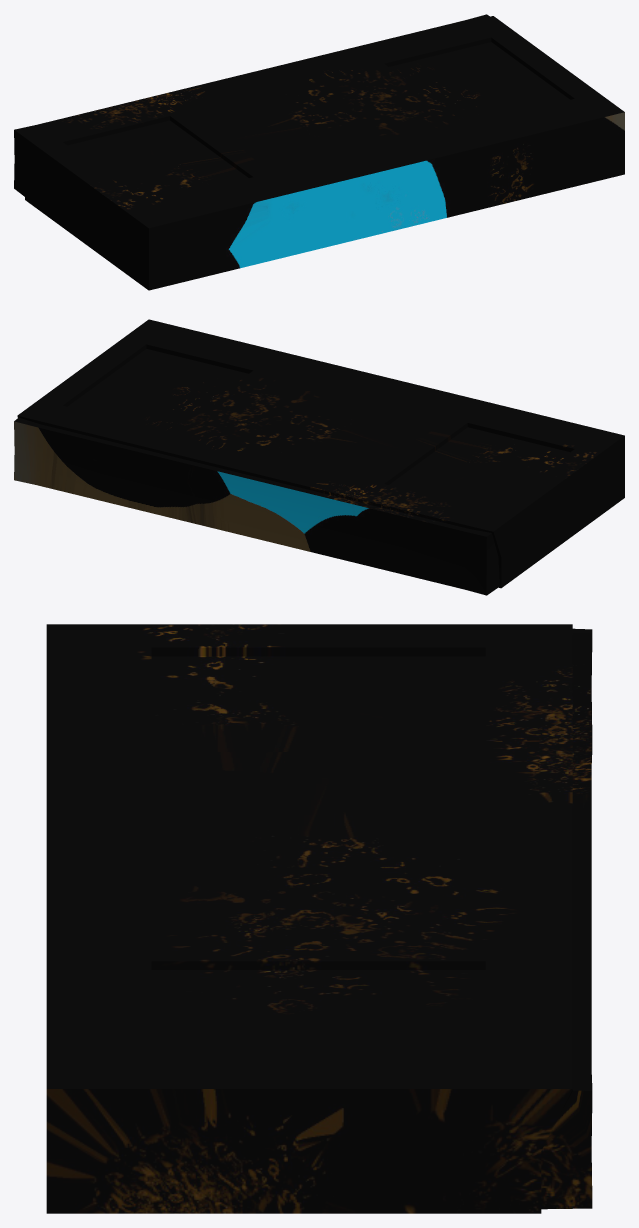
The model's file is vhstape.fbx.
3 views of the same model, one above another, from view 1: azimuth 30°, elevation 25°; view 2: azimuth 150°, elevation 25°; view 3: azimuth 270°, elevation 25° (orthographic). The views are drawn at different scales.
Visible parts, largest first — view 1: pCube1; view 2: pCube1; view 3: pCube1.
Part boxes in pixels (box(x1,y1,x2,y2)): pCube1: box(14, 14, 624, 290); pCube1: box(14, 319, 624, 595); pCube1: box(46, 624, 592, 1213).
Size of the model in its own units: 20 by 2.5 by 9.93.
